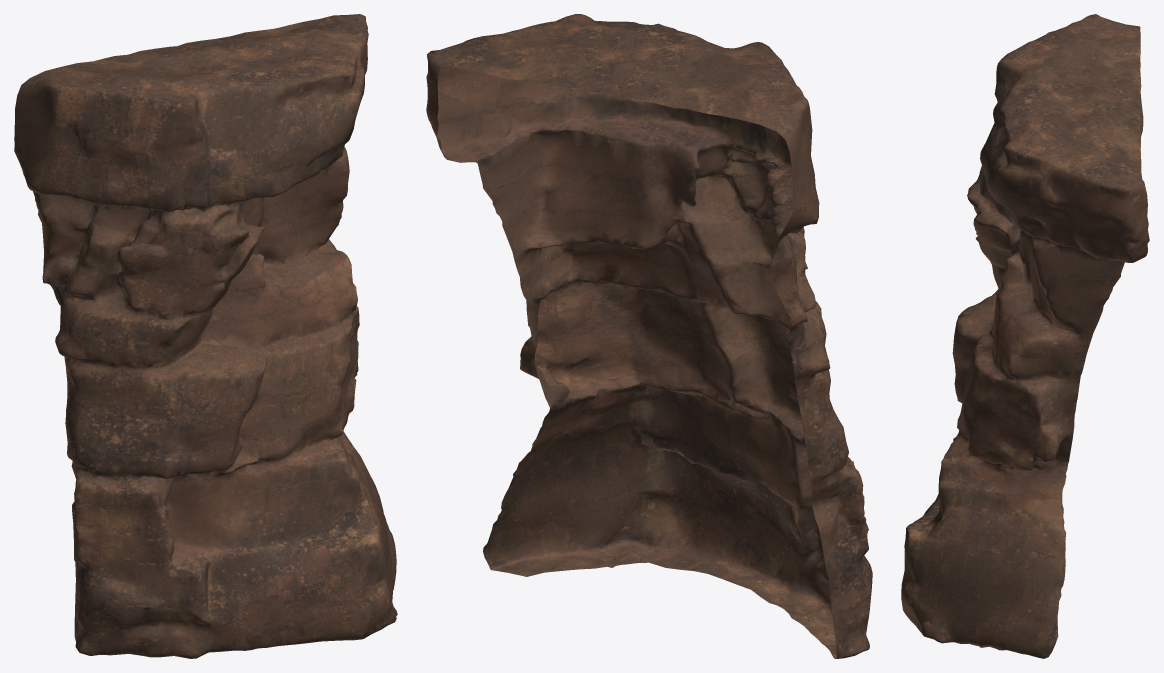
Rendered from quarry_cliff_ubjxdipda_mid.glb.
The picture shows the model from 3 angles, left to right: view 1: azimuth 30°, elevation 25°; view 2: azimuth 150°, elevation 25°; view 3: azimuth 270°, elevation 25°; orthographic projection. The views are drawn at different scales.
Parts seen in each view (by area): view 1: ubjxdipda_LOD0_TIER2_000; view 2: ubjxdipda_LOD0_TIER2_000; view 3: ubjxdipda_LOD0_TIER2_000.
Boxes of the visible parts, box(x1,y1,x2,y2) form: ubjxdipda_LOD0_TIER2_000: box(14, 14, 397, 658); ubjxdipda_LOD0_TIER2_000: box(426, 14, 872, 658); ubjxdipda_LOD0_TIER2_000: box(901, 14, 1149, 658).
Size of the model in its own units: 0.9199 by 1.37 by 0.6004.
Materials: 1 (1 with a texture image).
